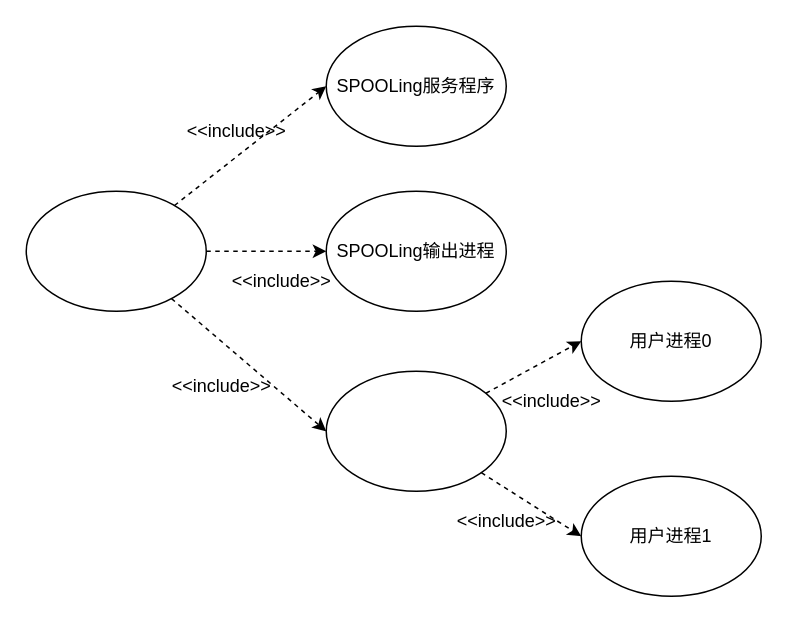
This 788x623 diagram has some shape labels left out. The shapes that lost their labels are listed below. From the top down, each one's box as (x1, y1, x2, y2) in pixels, then its label:
(25, 190, 206, 311): SPOOLing输出 模拟程序
(325, 370, 506, 491): 用户进程
